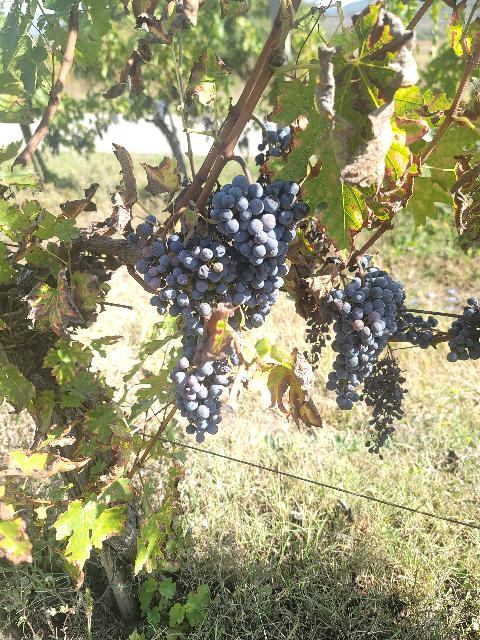grapes: (211, 175, 310, 326), (322, 268, 404, 409), (128, 215, 185, 316), (170, 356, 231, 441), (362, 355, 408, 454), (168, 235, 235, 282)
